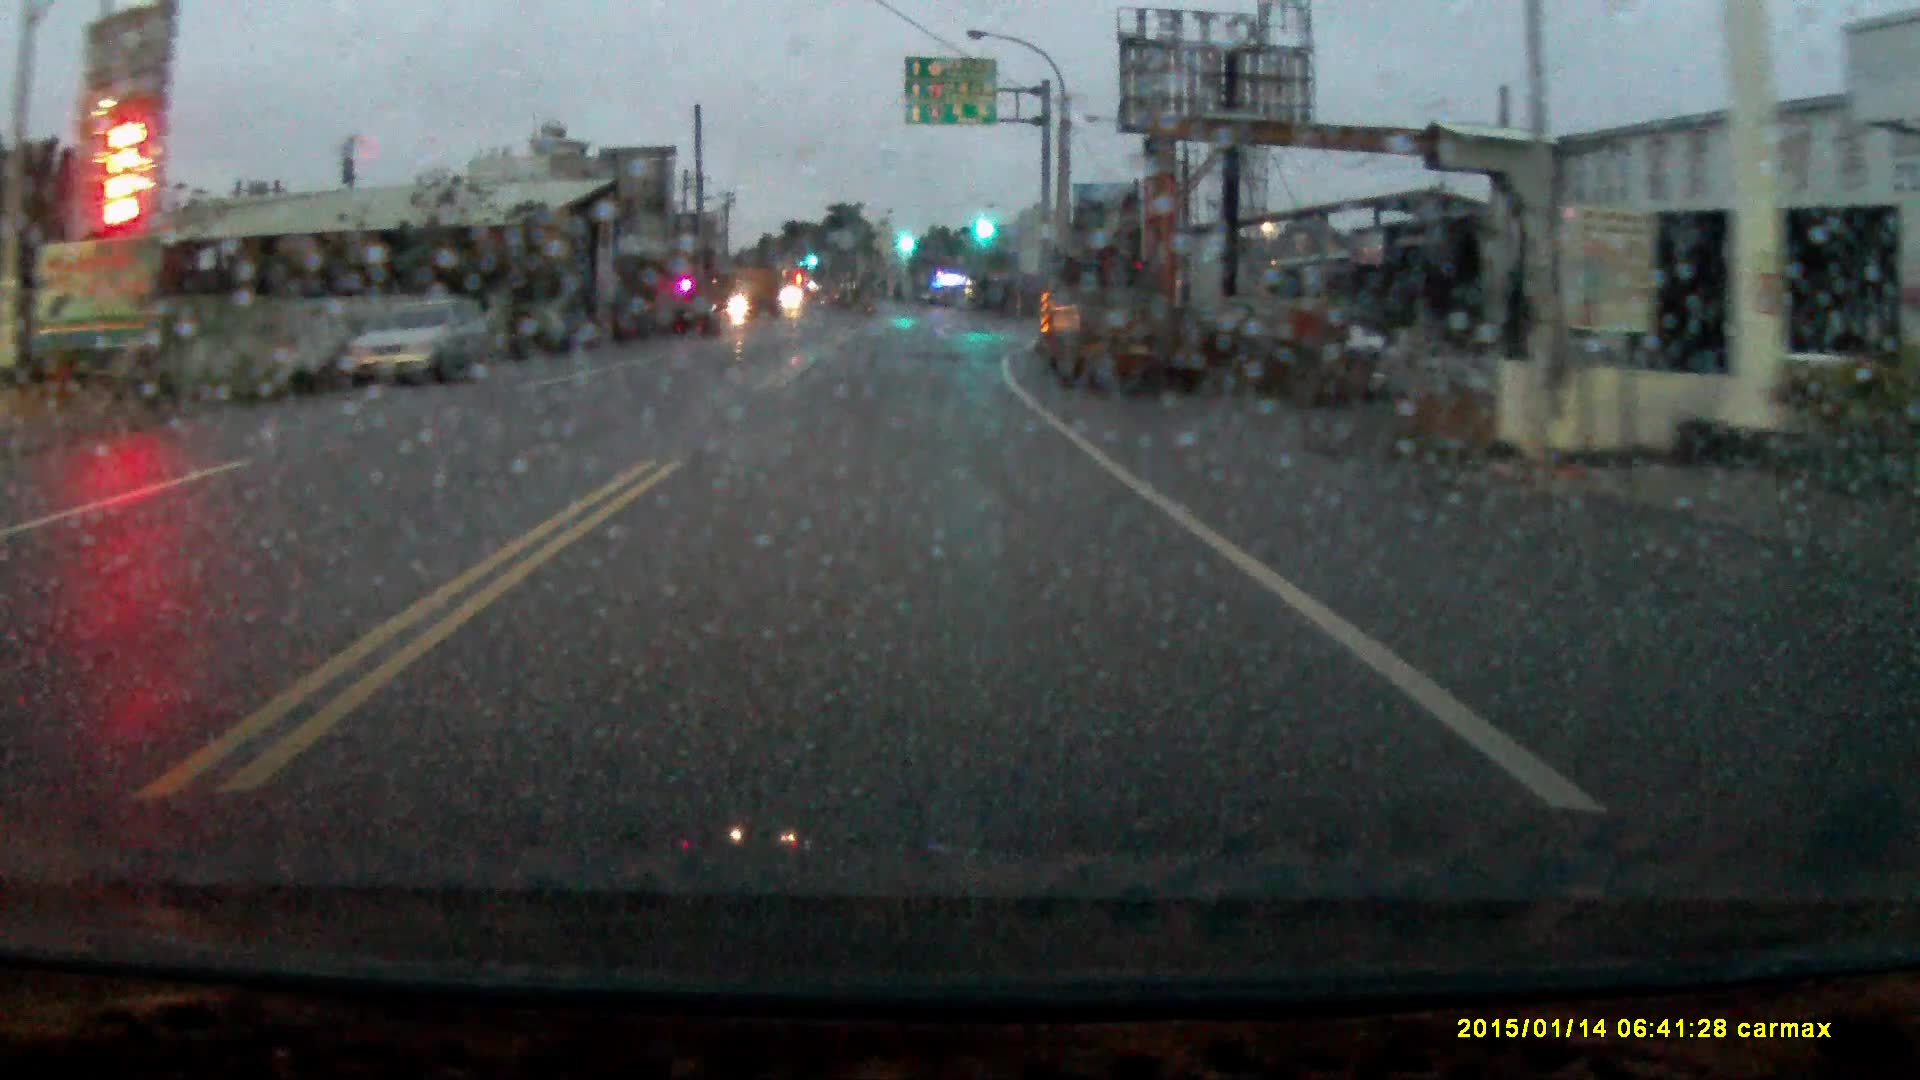vehicle: (1036, 251, 1175, 393), (340, 295, 492, 382), (709, 261, 781, 320)
